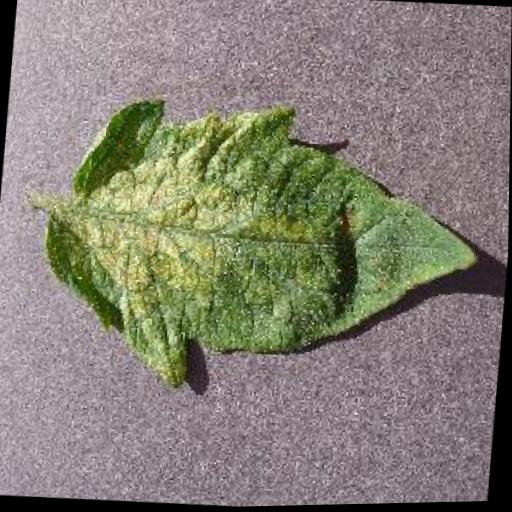Spider Mites: (37, 82, 494, 410)
